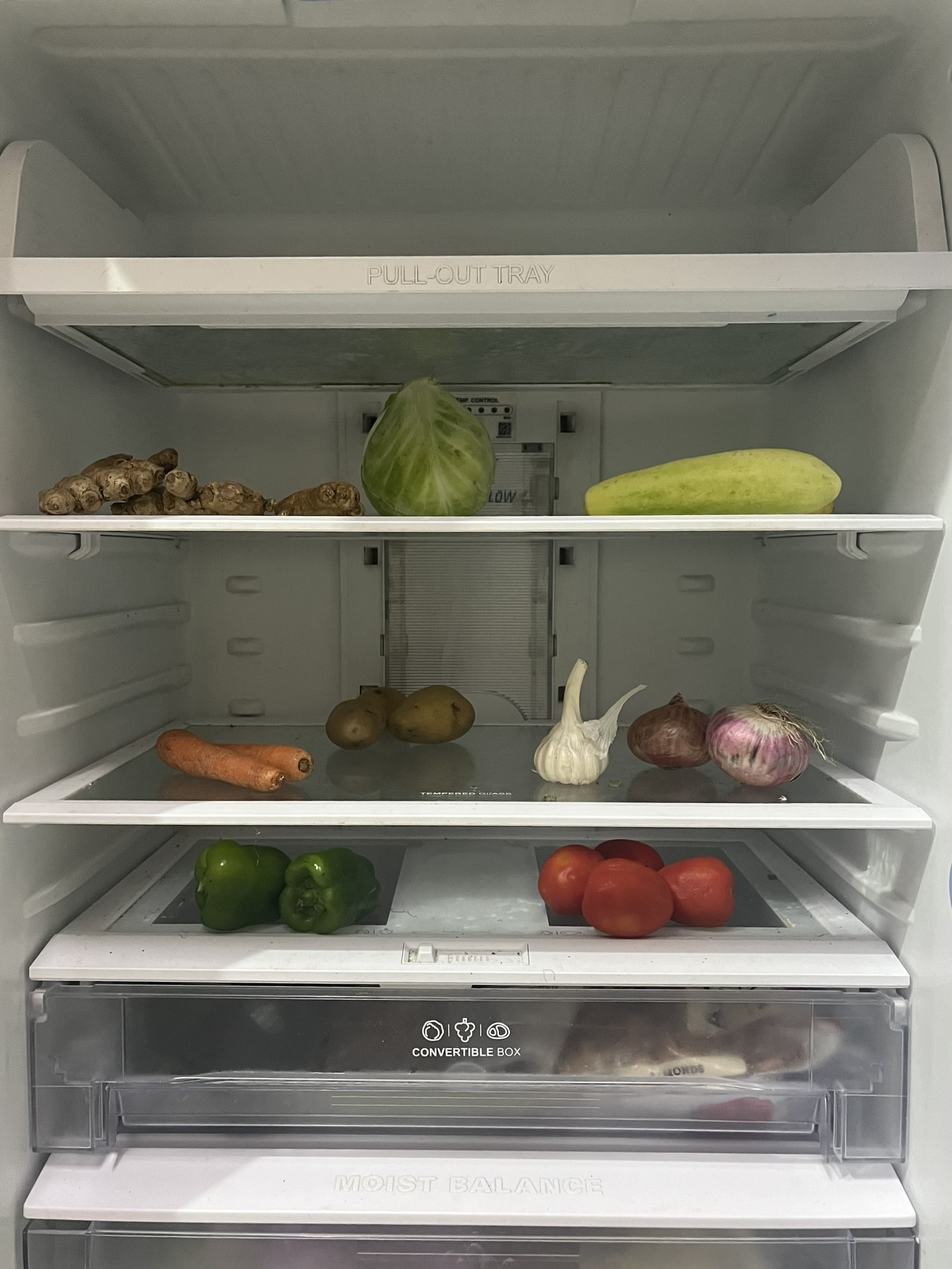capsicum: (192, 837, 381, 936)
carrots: (153, 717, 320, 797)
cucumber: (584, 447, 851, 518)
garlic: (532, 656, 639, 786)
ginger: (32, 447, 355, 516)
lettuce: (361, 373, 502, 518)
onion: (631, 693, 812, 792)
potato: (320, 676, 477, 751)
tomato: (536, 839, 737, 937)
